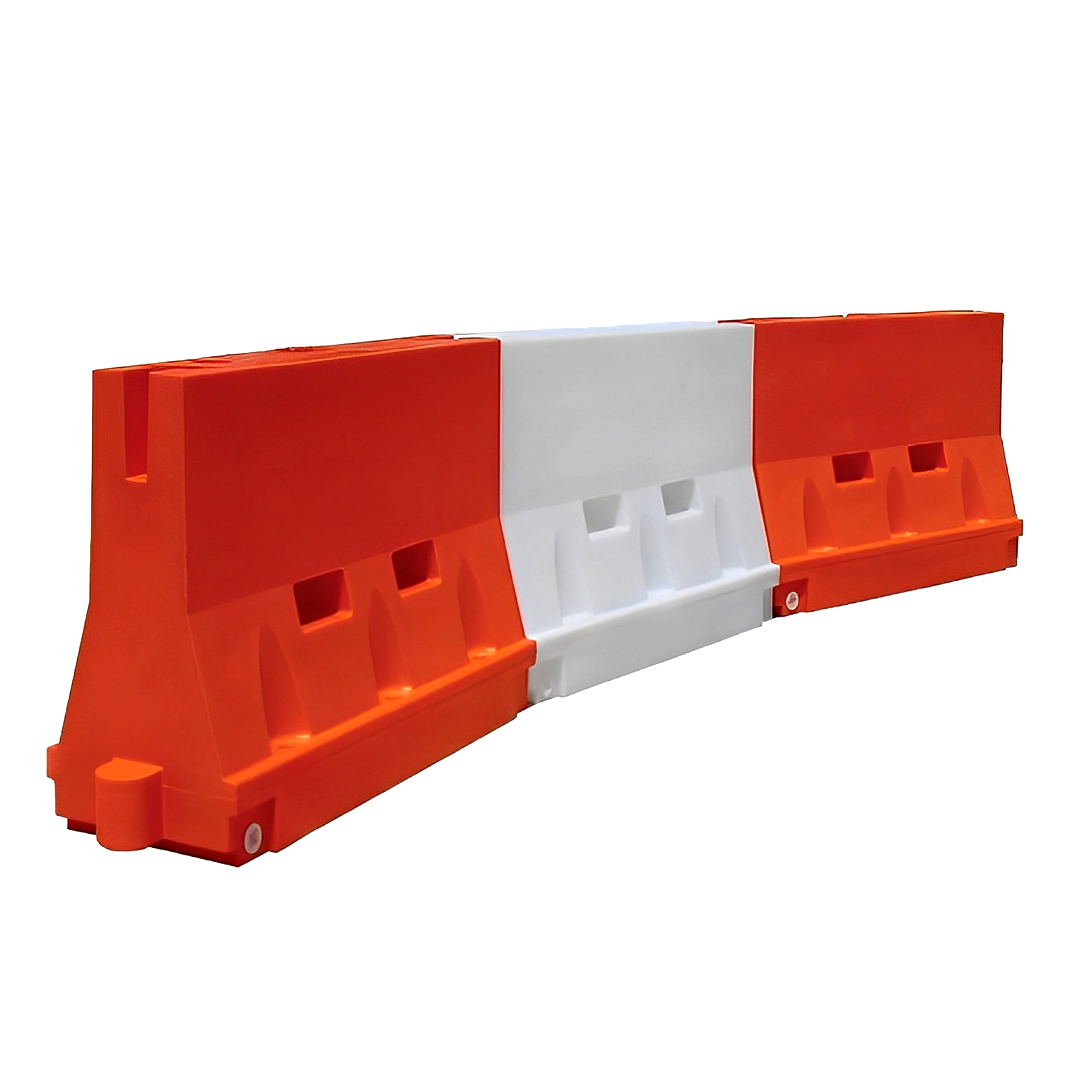Barrier: (24, 287, 1031, 905)
